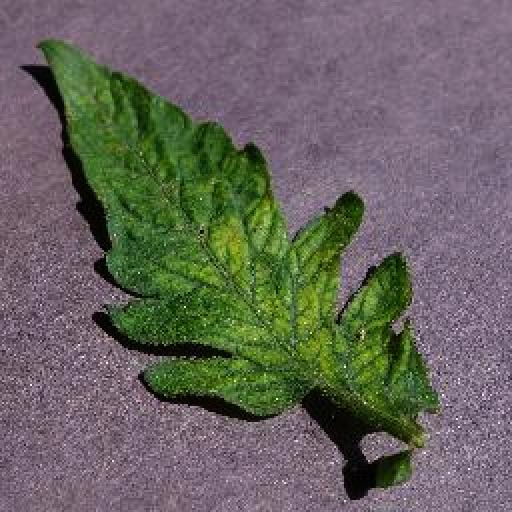disease_tomato: (30, 36, 444, 442)
